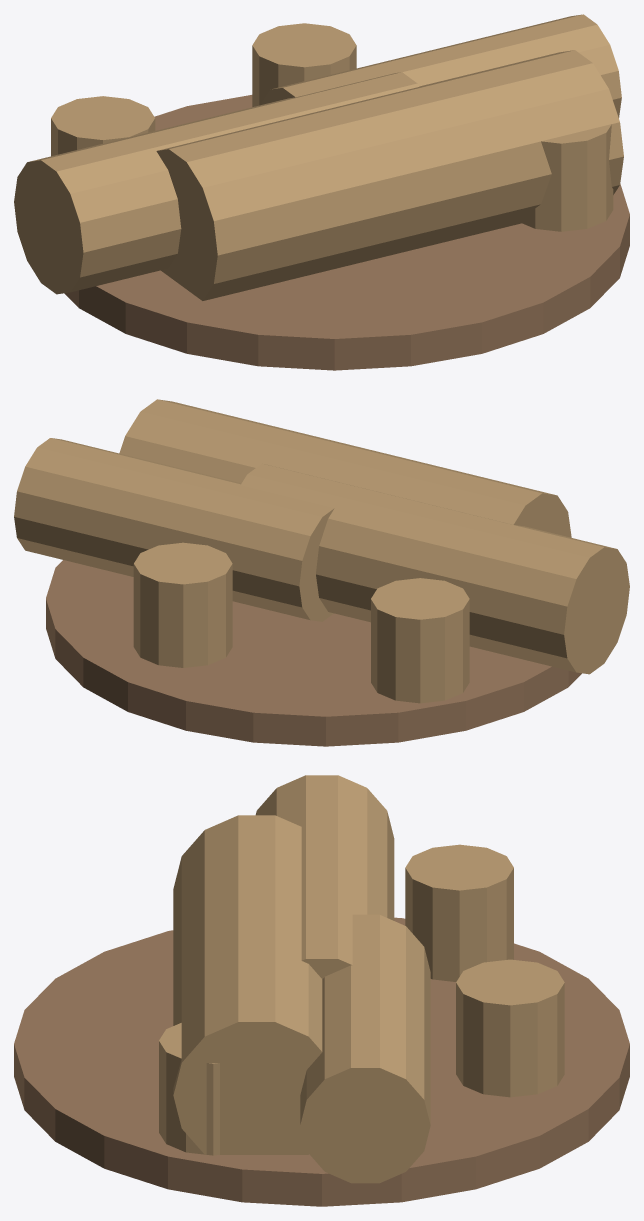
Rendered from wood_resource_node.glb.
The picture shows the model from 3 angles, top to bottom: view 1: azimuth 30°, elevation 25°; view 2: azimuth 150°, elevation 25°; view 3: azimuth 270°, elevation 25°; orthographic projection. The views are drawn at different scales.
Parts seen in each view (by area): view 1: cut_log_1, footprint, cut_log_0, cut_log_2, stump_1, stump_2, stump_0; view 2: footprint, cut_log_0, cut_log_2, cut_log_1, stump_2, stump_0; view 3: footprint, cut_log_1, cut_log_2, cut_log_0, stump_2, stump_0, stump_1.
Part boxes in pixels (x1,y1,x2,y2): cut_log_1: [156, 50, 623, 300]; footprint: [64, 95, 629, 370]; cut_log_0: [14, 72, 419, 294]; cut_log_2: [261, 14, 621, 117]; stump_1: [522, 124, 613, 231]; stump_2: [252, 23, 356, 106]; stump_0: [51, 96, 155, 156]; footprint: [46, 560, 581, 746]; cut_log_0: [241, 463, 629, 674]; cut_log_2: [14, 438, 334, 621]; cut_log_1: [119, 399, 571, 537]; stump_2: [133, 542, 232, 667]; stump_0: [371, 578, 469, 703]; footprint: [14, 917, 629, 1206]; cut_log_1: [173, 815, 322, 1154]; cut_log_2: [300, 914, 430, 1183]; cut_log_0: [255, 775, 394, 979]; stump_2: [456, 959, 564, 1097]; stump_0: [405, 844, 513, 981]; stump_1: [159, 1023, 219, 1155].
Bounding box in the file's own units: 1.87 × 0.5042 × 1.7.
